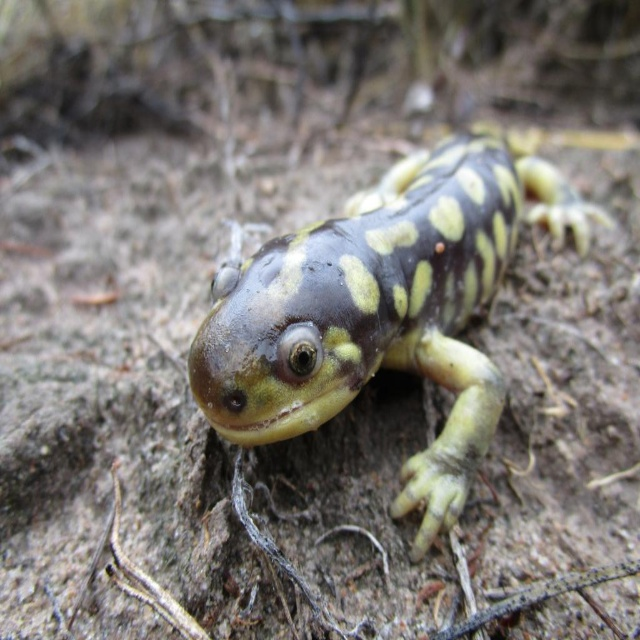Lizard: (187, 121, 616, 563)
